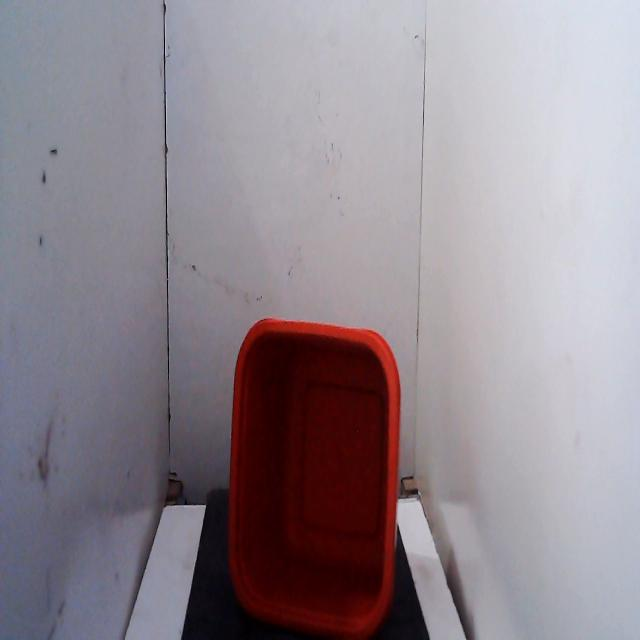plastic: (214, 292, 409, 640)
